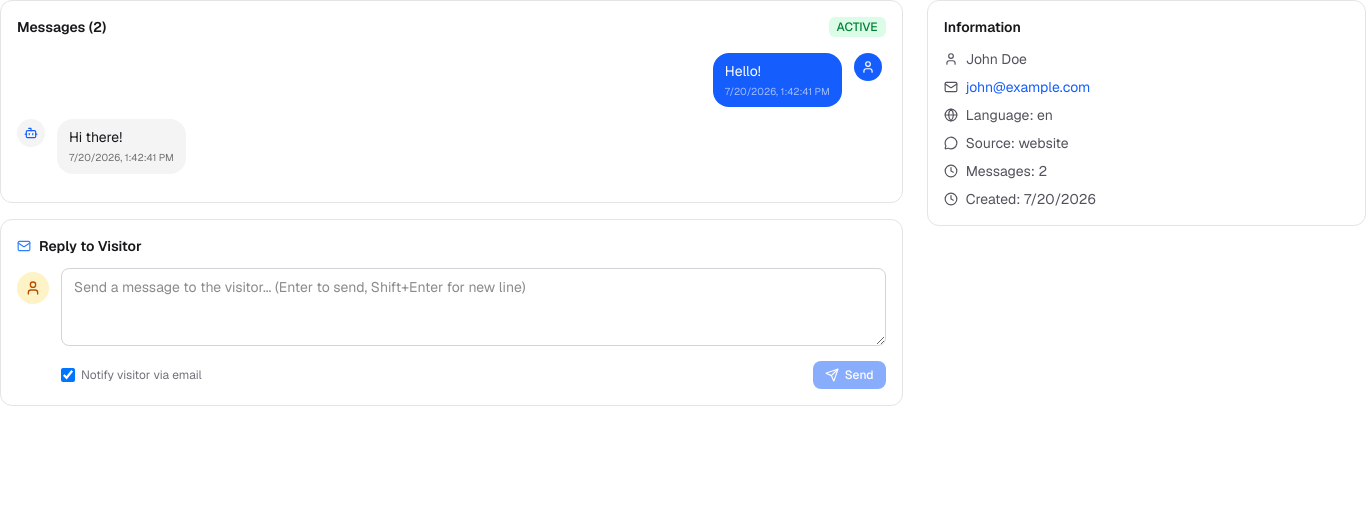
ConversationReplyPanel › shows 'Sent!' indicator after successful reply
Type "Hello" into the text box with placeholder "Send a message to the visitor... (Enter to send, Shift+Enter for new line)" at (473, 307), box [61,268,886,346]
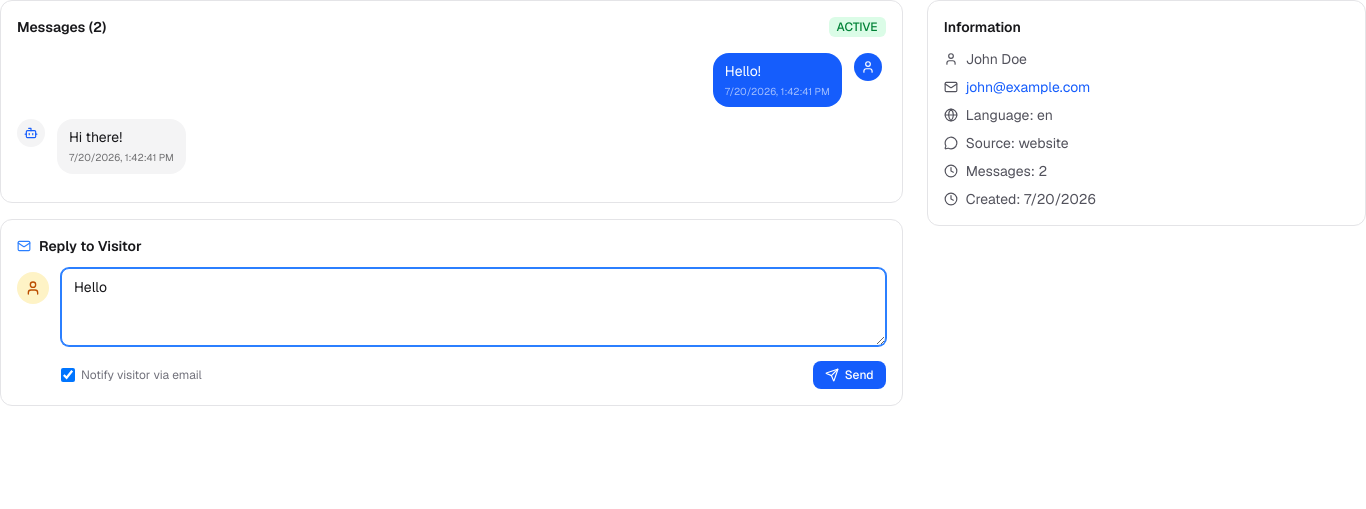
Click the button "Send" at (849, 375), box [813,361,886,389]
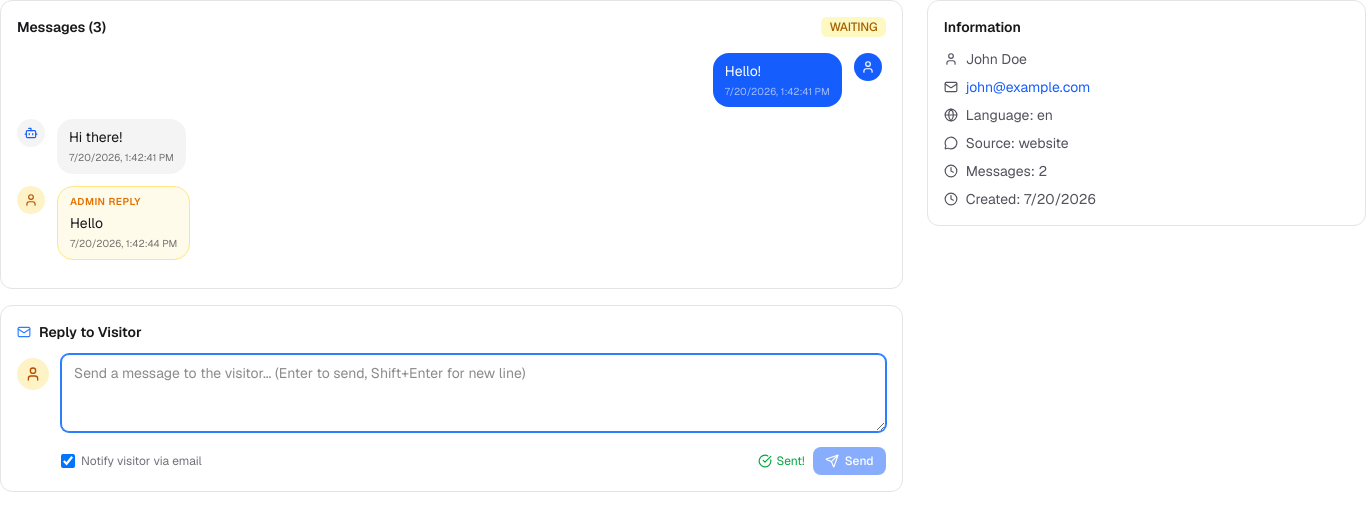
expect the text "Sent!" is shown: met, box [758,453,805,469]
